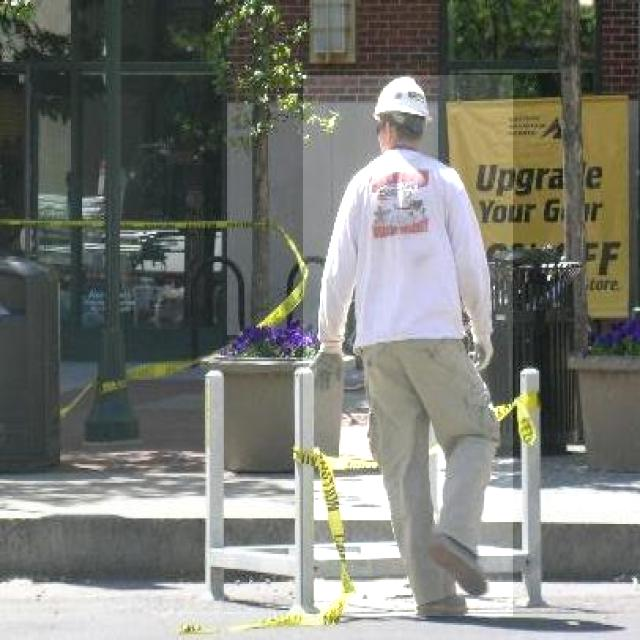with scooter: (303, 75, 513, 616)
